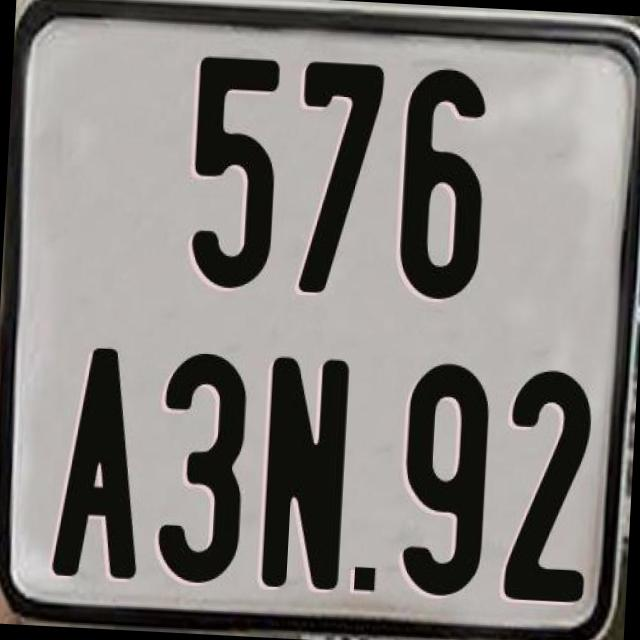2: (502, 368, 596, 612)
3: (152, 351, 252, 584)
5: (185, 51, 278, 294)
6: (394, 63, 488, 307)
7: (290, 58, 390, 294)
9: (396, 361, 488, 599)
A: (51, 343, 150, 580)
N: (260, 351, 358, 589)
